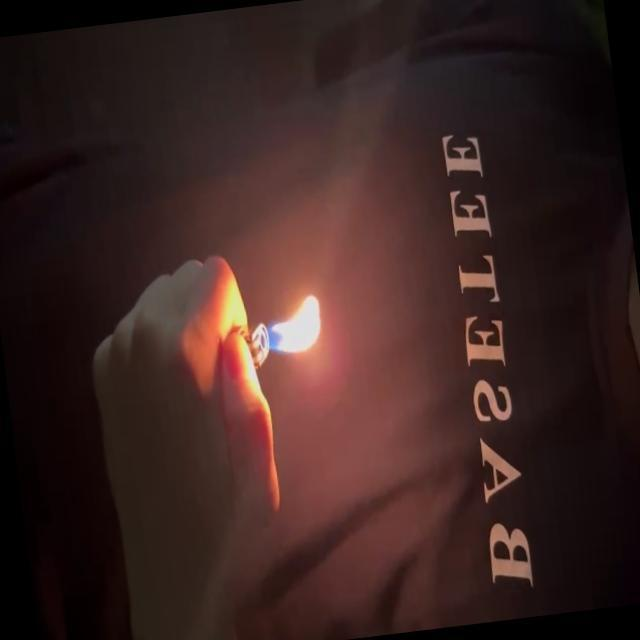Fire: (256, 289, 329, 361)
